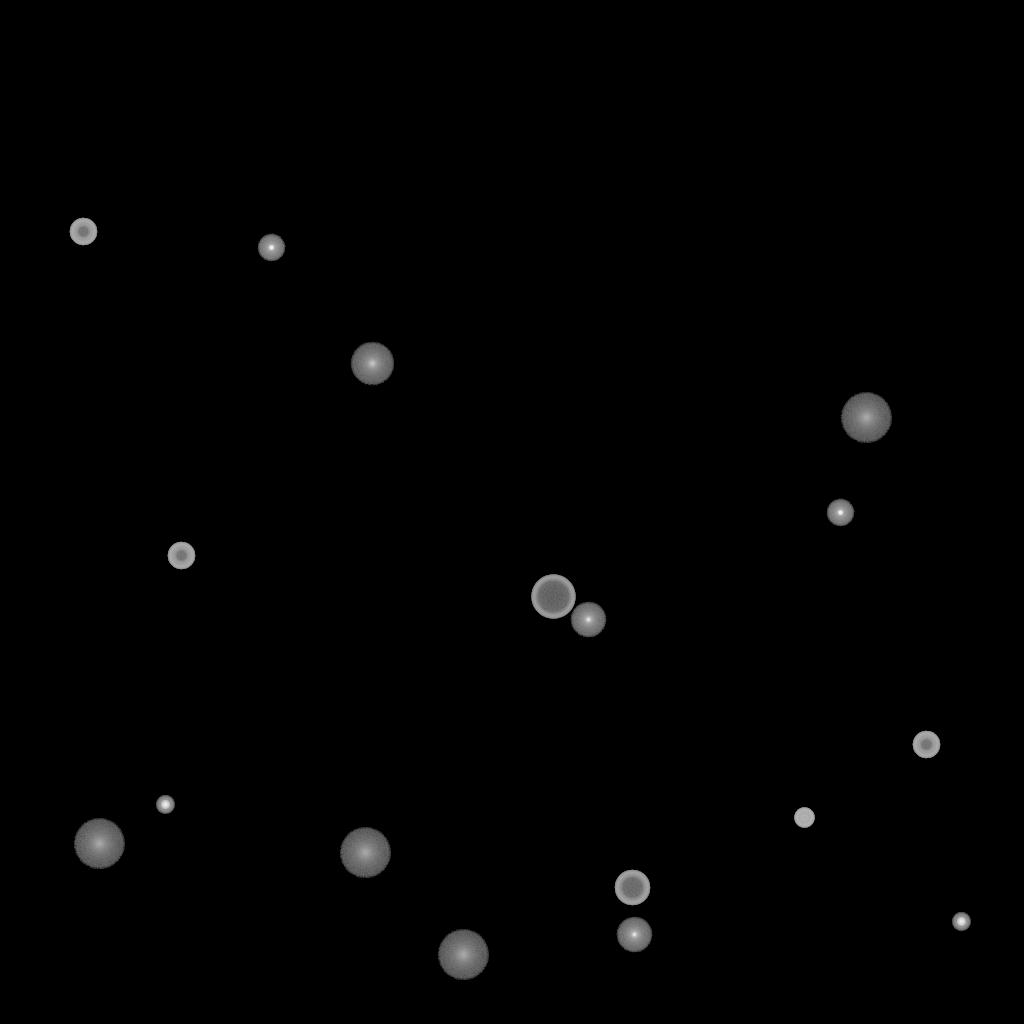depth:-10: (257, 234, 285, 262), (826, 499, 854, 527)
depth:-20: (156, 796, 174, 814), (952, 913, 970, 931)
depth:-40: (794, 808, 814, 828)
depth:-50: (912, 731, 940, 759), (69, 218, 97, 246), (167, 542, 195, 570)
depth:-60: (614, 870, 650, 906)
depth:-70: (531, 575, 575, 619)
depth:0: (570, 602, 606, 638), (616, 917, 652, 953)
depth:10: (350, 342, 394, 386)
depth:20: (339, 828, 391, 878), (840, 393, 892, 443), (437, 930, 489, 980), (73, 819, 125, 869)
